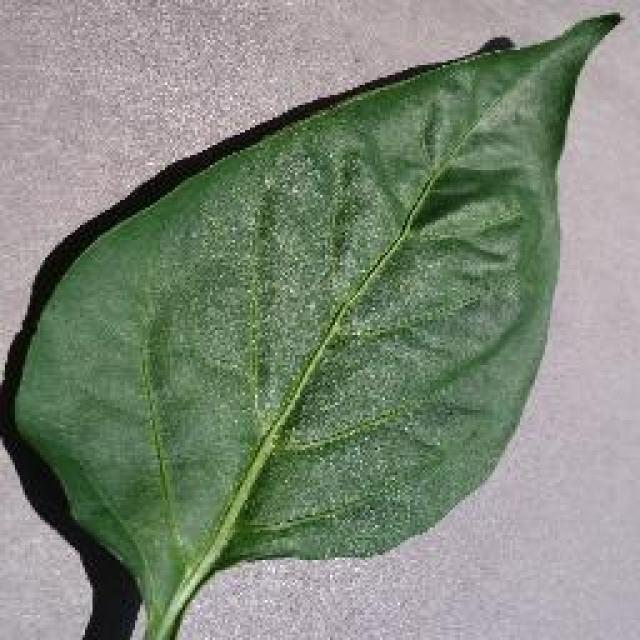Chilli_Healthy: (0, 7, 622, 637)
